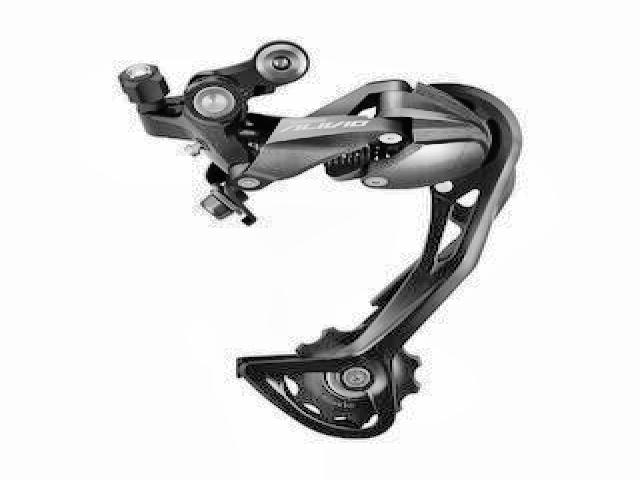rear_derailleur: (113, 41, 526, 442)
